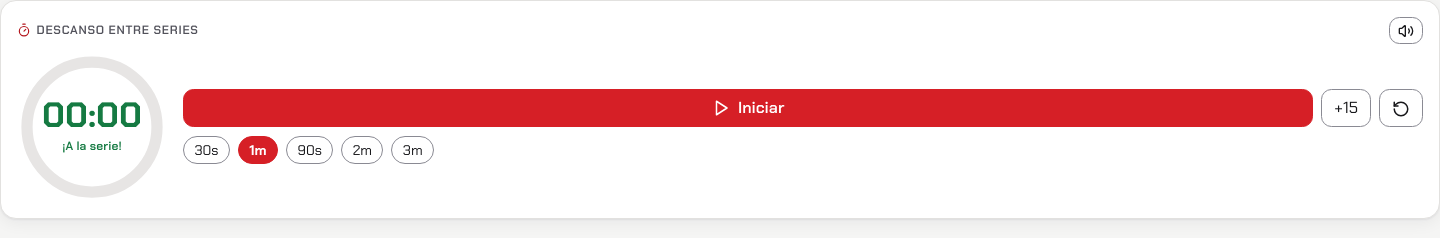
it: RestTimer: pausa y +15 › +15 con el descanso terminado arranca un nuevo descanso de 15 segundos
Click the button named "+15 segundos" at (1346, 108), box [1321, 89, 1371, 127]
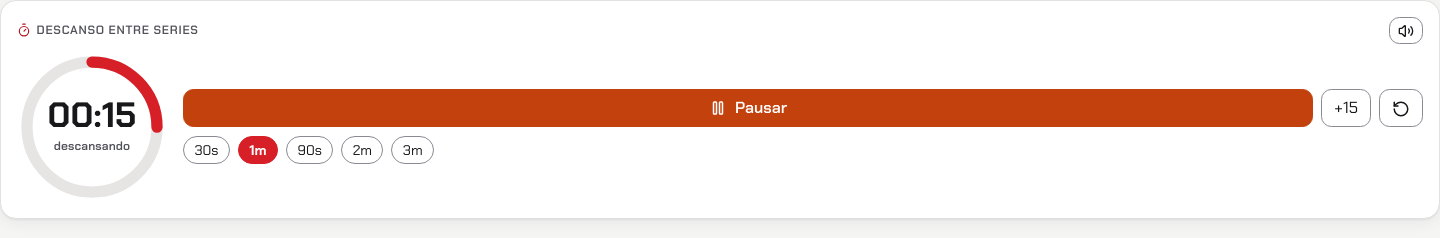
Expected: the text with class "timer-caption" reads "descansando", [54, 138, 130, 154]
